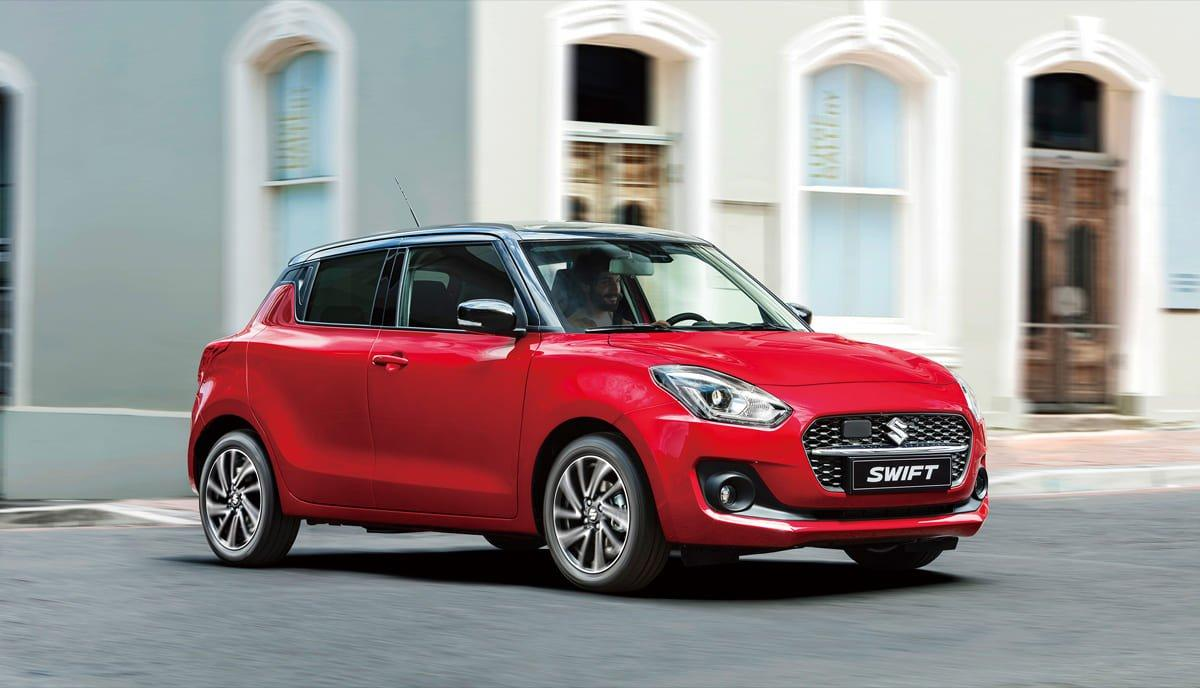suzuki: (876, 410, 922, 448)
